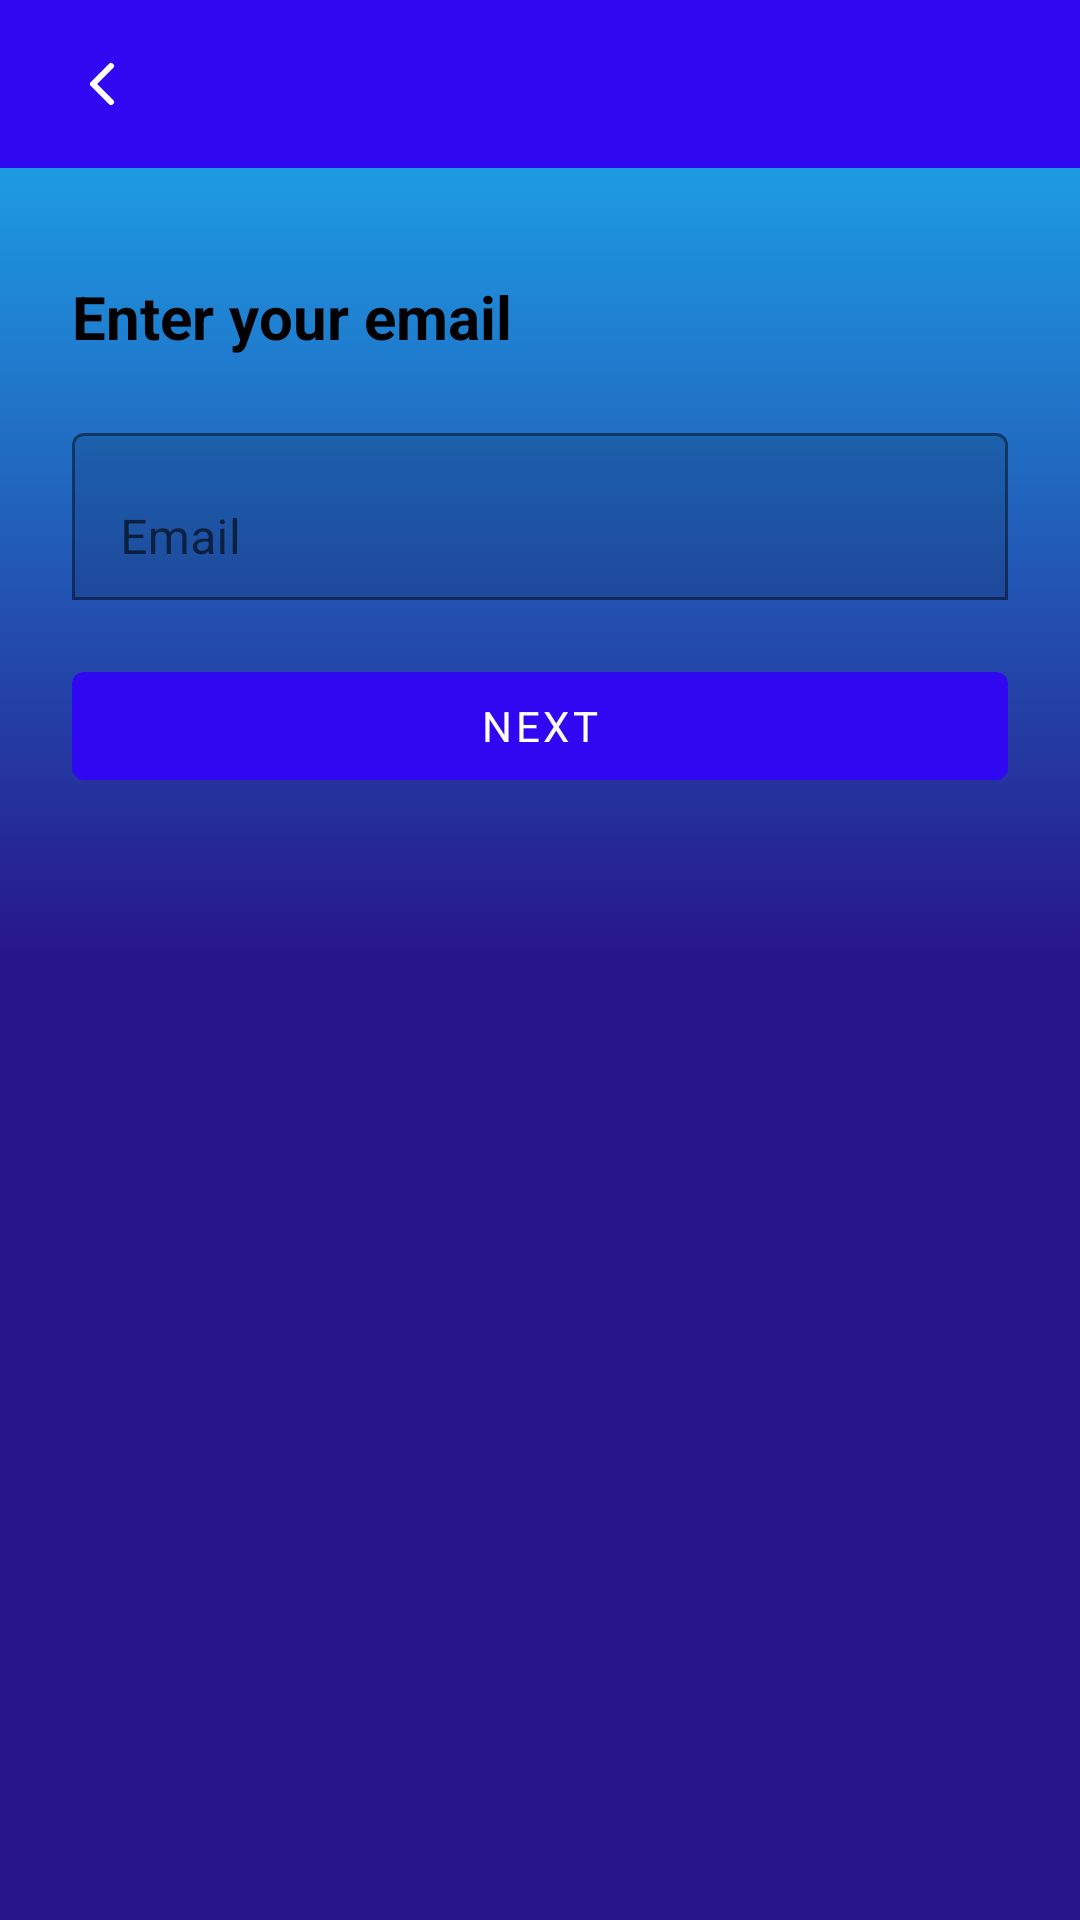

Screen size 1080x1920. Icon name, then its center in pixels as point (x, y):
back chevron: point (102, 84)
